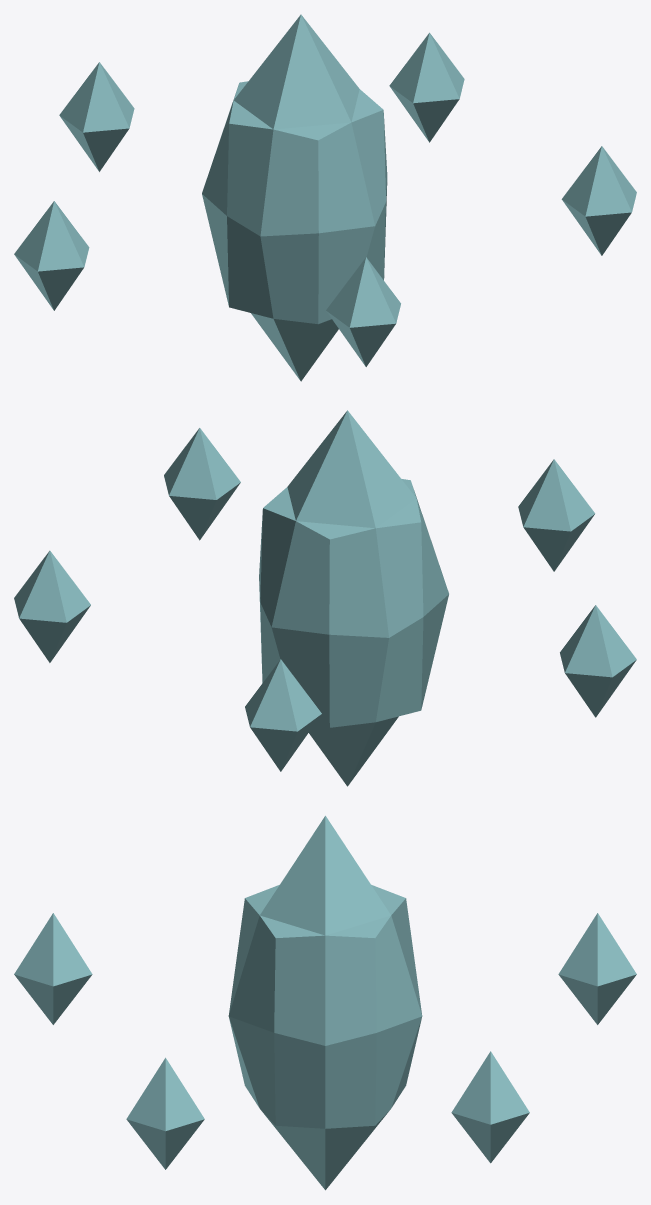
Rendered from ER_Asset_Crystal.fbx.
3 renders of one model, top to bottom at view 1: azimuth 30°, elevation 25°; view 2: azimuth 150°, elevation 25°; view 3: azimuth 270°, elevation 25°, orthographic. The views are drawn at different scales.
Visible parts, largest first — view 1: waterCrystal, pPyramid9; view 2: waterCrystal, pPyramid9; view 3: waterCrystal, pPyramid9.
Boxes of the visible parts, <box> form: waterCrystal: <box>202,14,387,381</box>; pPyramid9: <box>14,32,636,366</box>; waterCrystal: <box>259,410,448,786</box>; pPyramid9: <box>14,428,636,771</box>; waterCrystal: <box>228,815,422,1190</box>; pPyramid9: <box>14,913,636,1169</box>.
Bounding box in the file's own units: 1.06 × 0.7013 × 1.06.
